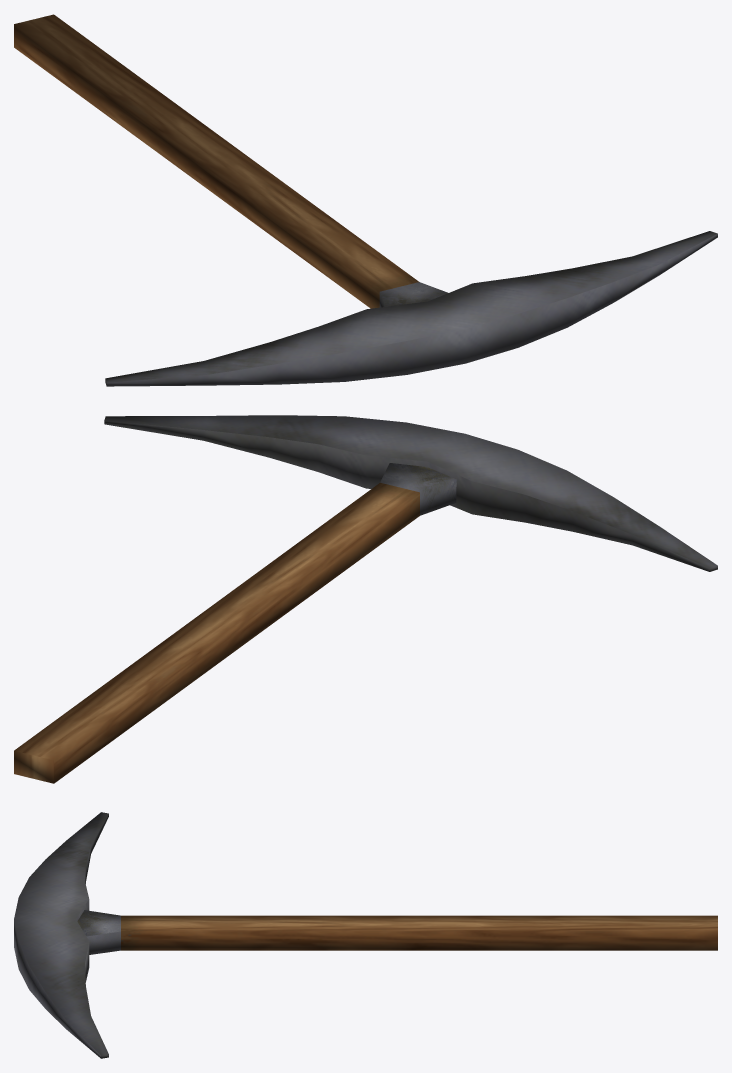
File: animal_pr_picax01_01.fbx
3 renders of one model, top to bottom at view 1: azimuth 30°, elevation 25°; view 2: azimuth 150°, elevation 25°; view 3: azimuth 270°, elevation 25°, orthographic. The views are drawn at different scales.
Visible parts, largest first — view 1: animal_pr_pickax01_mesh; view 2: animal_pr_pickax01_mesh; view 3: animal_pr_pickax01_mesh.
Boxes of the visible parts, x1,y1,x2,y2 form: animal_pr_pickax01_mesh: [14, 14, 717, 386]; animal_pr_pickax01_mesh: [14, 415, 717, 783]; animal_pr_pickax01_mesh: [14, 812, 717, 1058].
Bounding box in the file's own units: 39.66 × 2.13 × 48.45.
